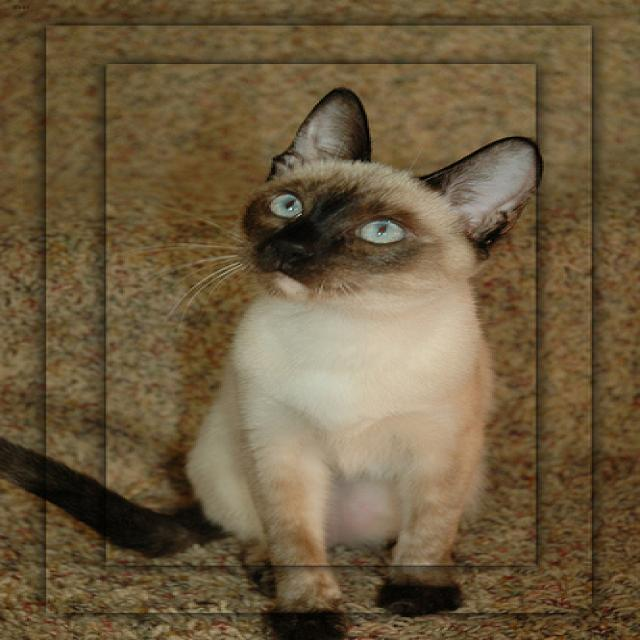cat: (238, 86, 540, 301)
